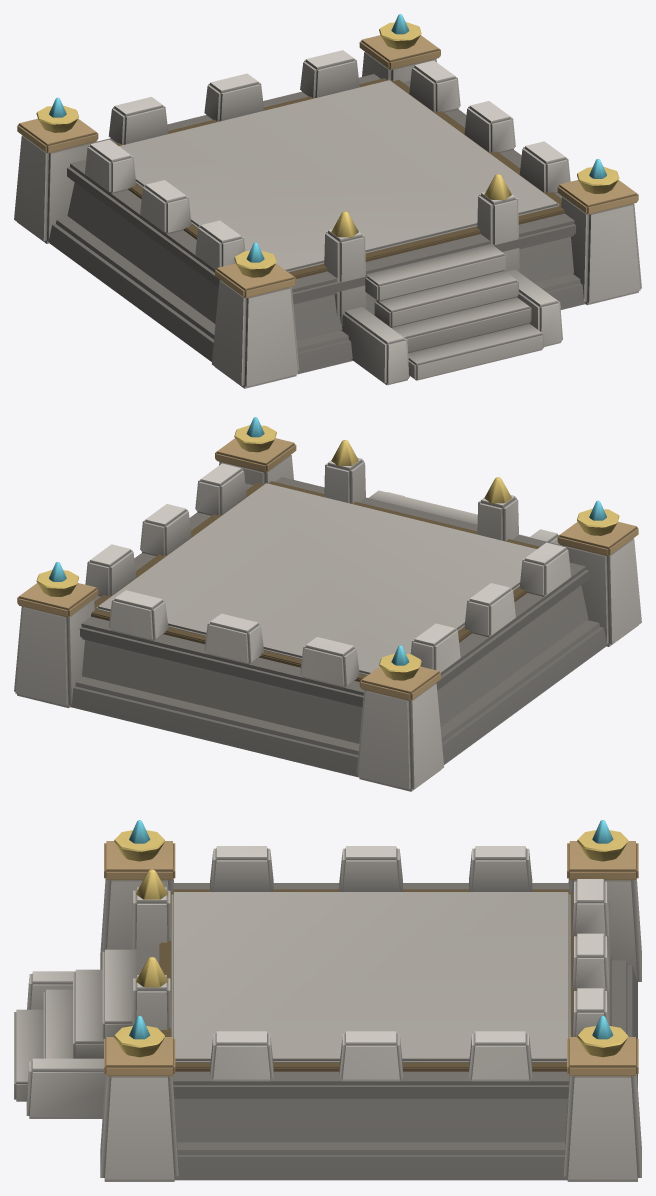
The model's file is citadel_plinth_lod0.glb.
3 views of the same model, one above another, from view 1: azimuth 30°, elevation 25°; view 2: azimuth 150°, elevation 25°; view 3: azimuth 270°, elevation 25° (orthographic). The views are drawn at different scales.
Parts seen in each view (by area): view 1: citadel_plinth; view 2: citadel_plinth; view 3: citadel_plinth.
Boxes of the visible parts, x1,y1,x2,y2 form: citadel_plinth: [14, 14, 641, 388]; citadel_plinth: [14, 417, 641, 791]; citadel_plinth: [14, 820, 641, 1181].
Bounding box in the file's own units: 4.4 × 1.39 × 5.1.
